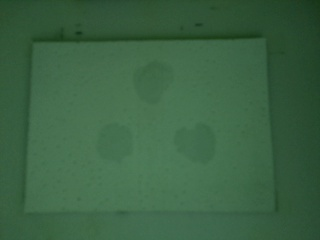Water_detected: (182, 125, 218, 159), (98, 125, 127, 162), (128, 68, 165, 94)
